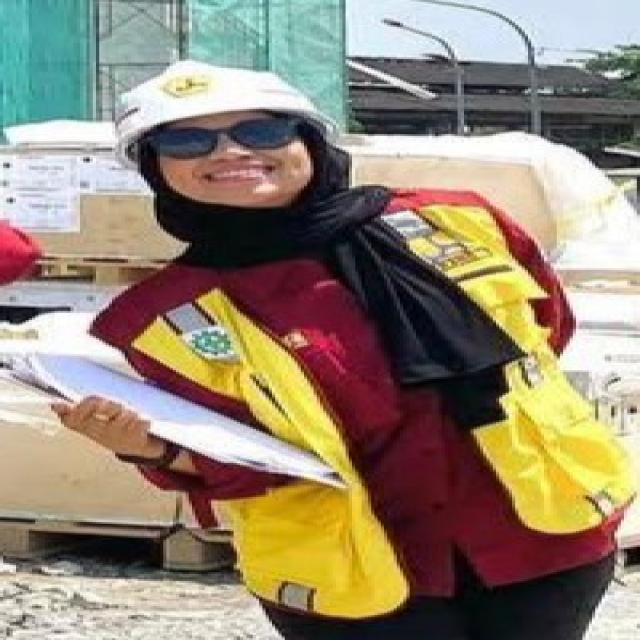safetyhelmet: (102, 52, 329, 220)
